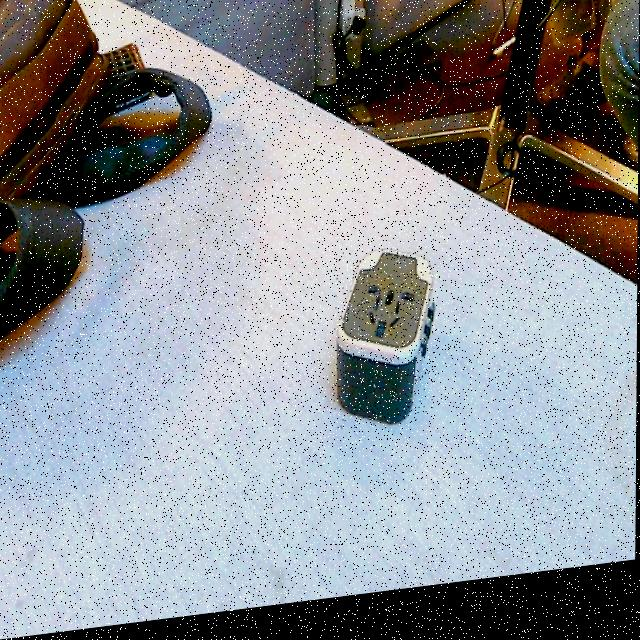adapter: (334, 251, 436, 440)
